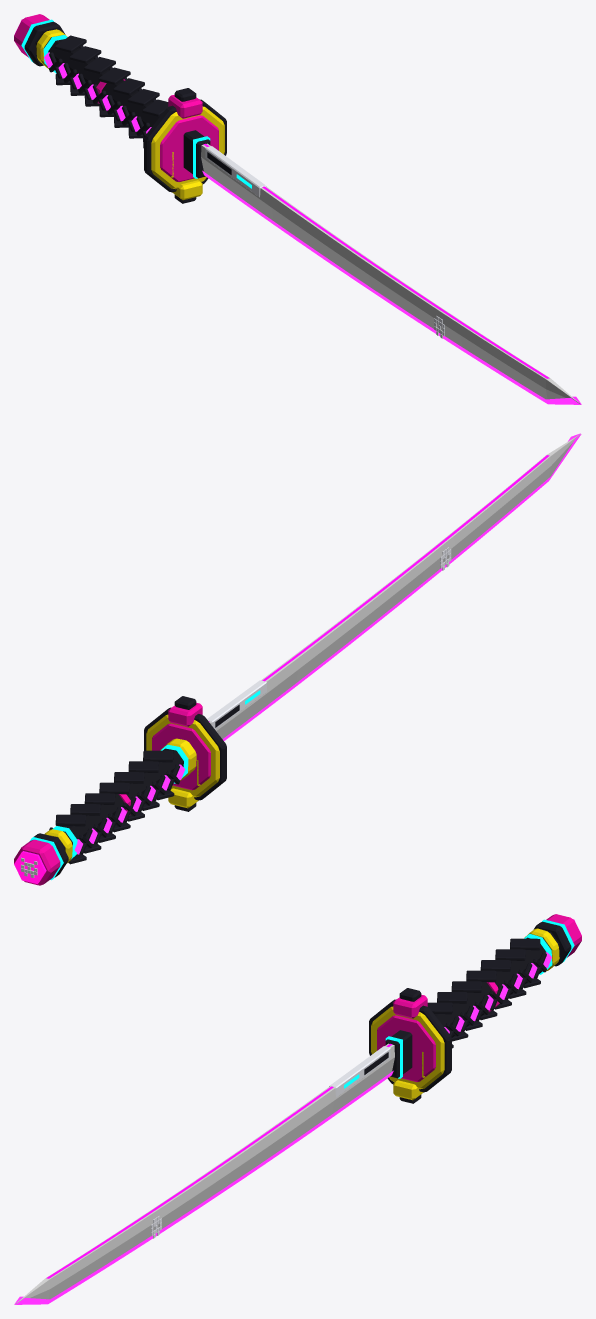
Rendered from Katana.fbx.
3 renders of one model, top to bottom at view 1: azimuth 30°, elevation 25°; view 2: azimuth 150°, elevation 25°; view 3: azimuth 330°, elevation 25°, orthographic.
Visible parts, largest first — view 1: KatanaPart_Katana_Hoja_Grafiti.001, KatanaPart_Katana_Negro.001, KatanaPart_Katana_Magenta.001, KatanaPart_Neon_Rosa.001, KatanaPart_Katana_Amarillo.001, KatanaPart_Katana_Mango.001, KatanaPart_Neon_Magenta.001, KatanaPart_Katana_Blanco.001, KatanaPart_Neon_Cyan.001; view 2: KatanaPart_Katana_Hoja_Grafiti.001, KatanaPart_Katana_Negro.001, KatanaPart_Katana_Magenta.001, KatanaPart_Katana_Amarillo.001, KatanaPart_Neon_Rosa.001, KatanaPart_Katana_Mango.001, KatanaPart_Neon_Magenta.001, KatanaPart_Katana_Blanco.001, KatanaPart_Neon_Cyan.001, KatanaPart_Pomo_Pantalla.001; view 3: KatanaPart_Katana_Hoja_Grafiti.001, KatanaPart_Katana_Negro.001, KatanaPart_Katana_Magenta.001, KatanaPart_Neon_Rosa.001, KatanaPart_Katana_Amarillo.001, KatanaPart_Katana_Mango.001, KatanaPart_Neon_Magenta.001, KatanaPart_Katana_Blanco.001, KatanaPart_Neon_Cyan.001.
Boxes of the visible parts, box(x1,y1,x2,y2) form: KatanaPart_Katana_Hoja_Grafiti.001: box(201, 143, 580, 404); KatanaPart_Katana_Negro.001: box(24, 21, 231, 203); KatanaPart_Katana_Magenta.001: box(14, 14, 218, 181); KatanaPart_Neon_Rosa.001: box(44, 52, 581, 404); KatanaPart_Katana_Amarillo.001: box(36, 29, 224, 200); KatanaPart_Katana_Mango.001: box(35, 29, 159, 134); KatanaPart_Neon_Magenta.001: box(203, 143, 549, 378); KatanaPart_Katana_Blanco.001: box(205, 146, 266, 197); KatanaPart_Neon_Cyan.001: box(21, 19, 251, 188); KatanaPart_Katana_Hoja_Grafiti.001: box(209, 434, 580, 738); KatanaPart_Katana_Negro.001: box(34, 696, 239, 877); KatanaPart_Katana_Magenta.001: box(14, 702, 210, 885); KatanaPart_Katana_Amarillo.001: box(44, 714, 219, 863); KatanaPart_Neon_Rosa.001: box(74, 433, 581, 854); KatanaPart_Katana_Mango.001: box(56, 748, 183, 850); KatanaPart_Neon_Magenta.001: box(209, 455, 549, 721); KatanaPart_Katana_Blanco.001: box(207, 680, 266, 729); KatanaPart_Neon_Cyan.001: box(29, 690, 260, 880); KatanaPart_Pomo_Pantalla.001: box(14, 851, 46, 883); KatanaPart_Katana_Hoja_Grafiti.001: box(15, 1043, 394, 1304); KatanaPart_Katana_Negro.001: box(364, 921, 571, 1103); KatanaPart_Katana_Magenta.001: box(377, 914, 581, 1081); KatanaPart_Neon_Rosa.001: box(14, 952, 551, 1304); KatanaPart_Katana_Amarillo.001: box(371, 928, 559, 1100); KatanaPart_Katana_Mango.001: box(434, 928, 560, 1037); KatanaPart_Neon_Magenta.001: box(46, 1043, 392, 1278); KatanaPart_Katana_Blanco.001: box(329, 1046, 390, 1097); KatanaPart_Neon_Cyan.001: box(344, 919, 574, 1088).
Size of the model in its own units: 0.0924 by 0.12 by 1.11.
